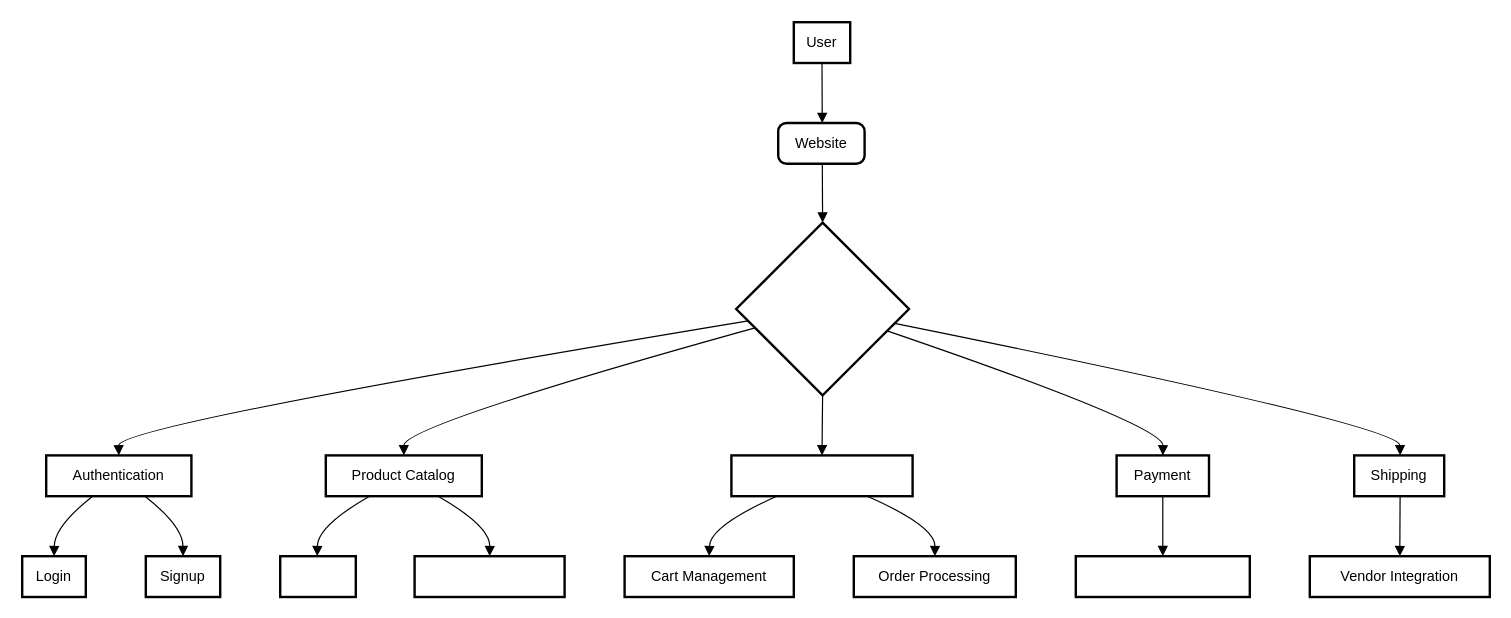
Some shapes in this 1511 by 618 pixel diagram are drawn without their labels. The shapes that lost their labels are listed below. From the top down, each one's box as (x1, y1, x2, y2) in pixels, then its label:
(734, 221, 910, 396): Microservices
(730, 454, 913, 497): Order Management
(278, 554, 356, 598): Search
(413, 554, 565, 598): Product Details
(1074, 554, 1250, 598): Payment Gateway
